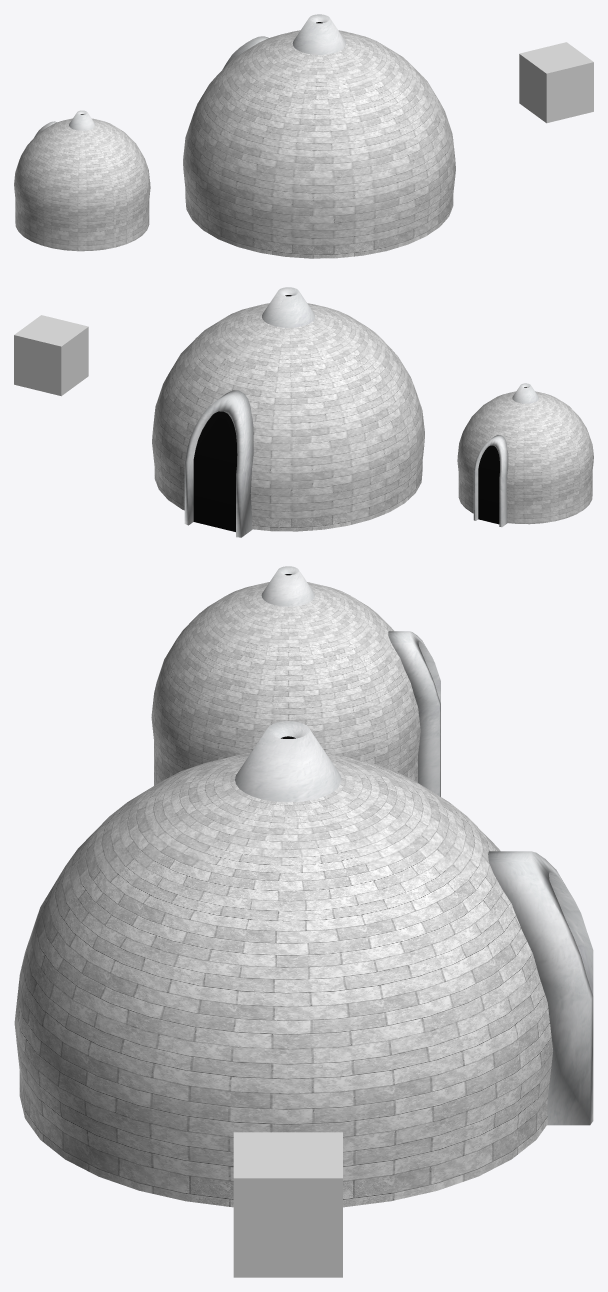
File: igloos.fbx
3 renders of one model, top to bottom at view 1: azimuth 30°, elevation 25°; view 2: azimuth 150°, elevation 25°; view 3: azimuth 270°, elevation 25°, orthographic. The views are drawn at different scales.
Visible parts, largest first — view 1: igloo, igloo.001, Cube, iglooChimney, iglooChimney.001; view 2: igloo, igloo.001, iglooDoor, Cube, iglooDoor.001, iglooChimney, iglooChimney.001; view 3: igloo, igloo.001, Cube, iglooDoor, iglooChimney, iglooDoor.001, iglooChimney.001.
Part boxes in pixels (<box>): igloo: <box>183,30,455,258</box>; igloo.001: <box>14,118,150,251</box>; Cube: <box>519,42,593,123</box>; iglooChimney: <box>293,14,345,54</box>; iglooChimney.001: <box>69,110,95,130</box>; igloo: <box>152,303,424,531</box>; igloo.001: <box>457,391,593,524</box>; iglooDoor: <box>184,390,253,537</box>; Cube: <box>14,315,88,396</box>; iglooDoor.001: <box>473,435,508,527</box>; iglooChimney: <box>262,287,314,327</box>; iglooChimney.001: <box>512,383,538,403</box>; igloo: <box>14,752,552,1207</box>; igloo.001: <box>151,582,420,785</box>; Cube: <box>233,1132,342,1277</box>; iglooDoor: <box>488,851,593,1125</box>; iglooChimney: <box>235,721,341,802</box>; iglooDoor.001: <box>388,631,440,796</box>; iglooChimney.001: <box>261,566,314,606</box>.
Size of the model in its own units: 1057 by 740 by 2350.
